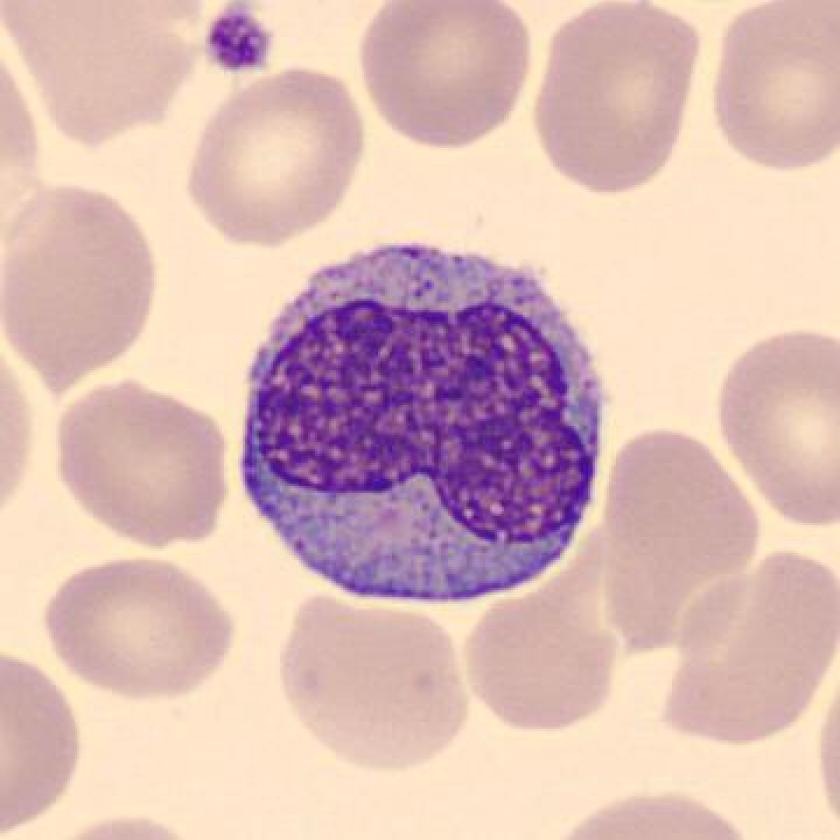monocyte: (218, 235, 631, 617)
